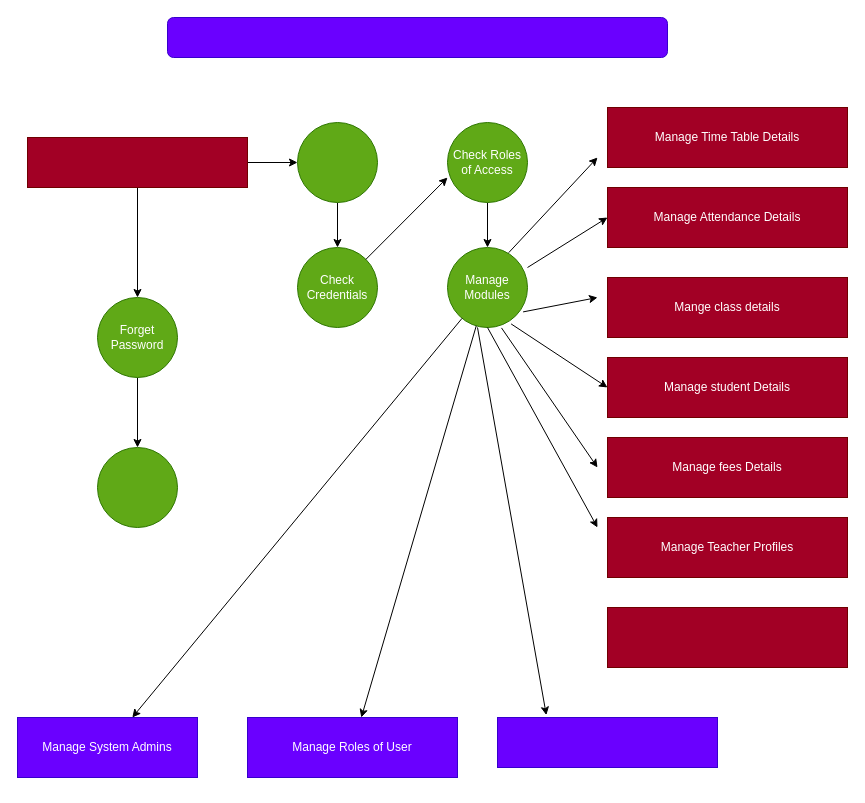
Image size: 865x803. Some labels were removed from this diagram. Here are the shapes that lost their labels. From the top down, the centre of each, then its label:
[417,37]: Student Information System
[137,162]: Admin
[337,162]: Login to System
[137,487]: Sent email to user
[727,637]: Manage Report
[607,742]: Manage User Permission
